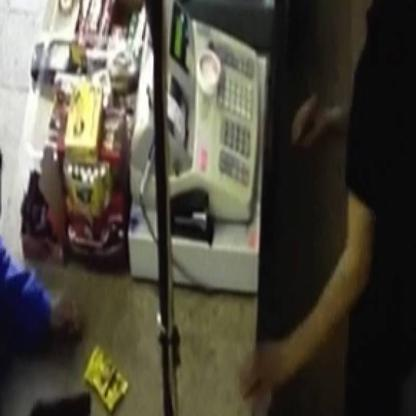gun: (22, 380, 97, 415)
